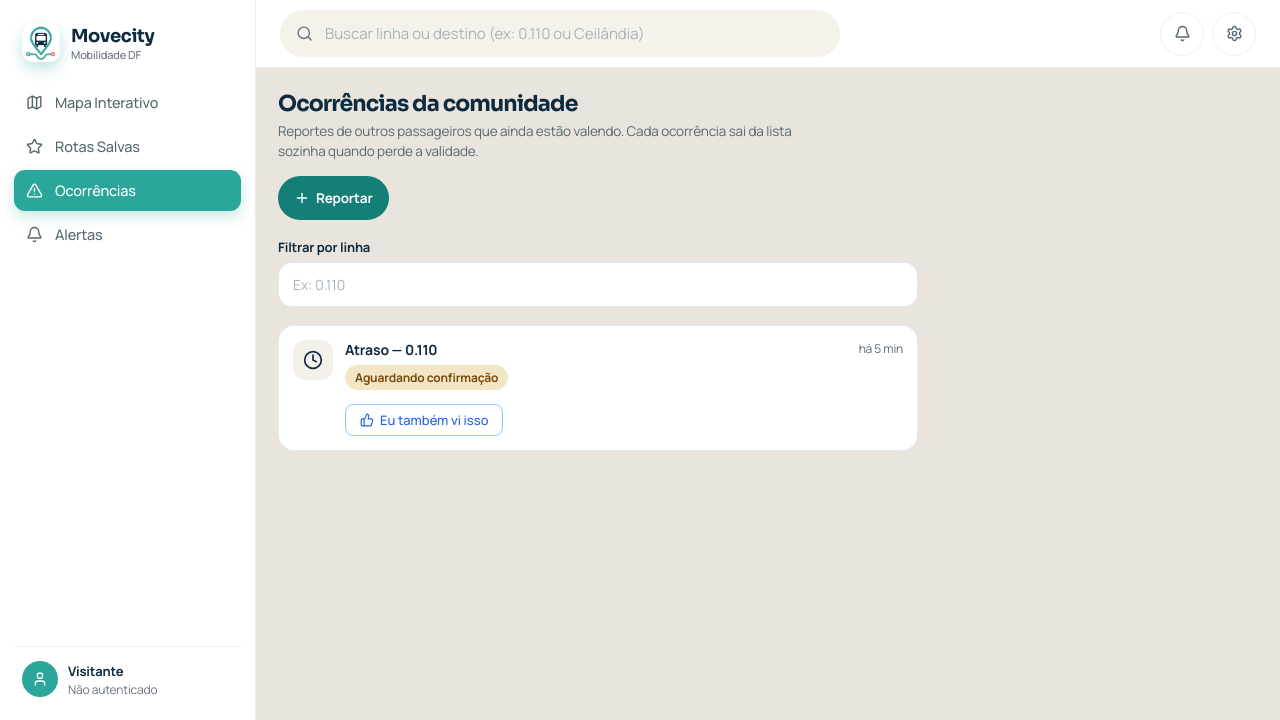
Test: OcorrenciasPage — confirmar ocorrência (US #26) › ao atingir 3 confirmações, status muda para confirmada e botão some
The width and height of the screenshot is (1280, 720).
Click the button "Eu também vi isso": point(424, 420) [345,404,504,436]
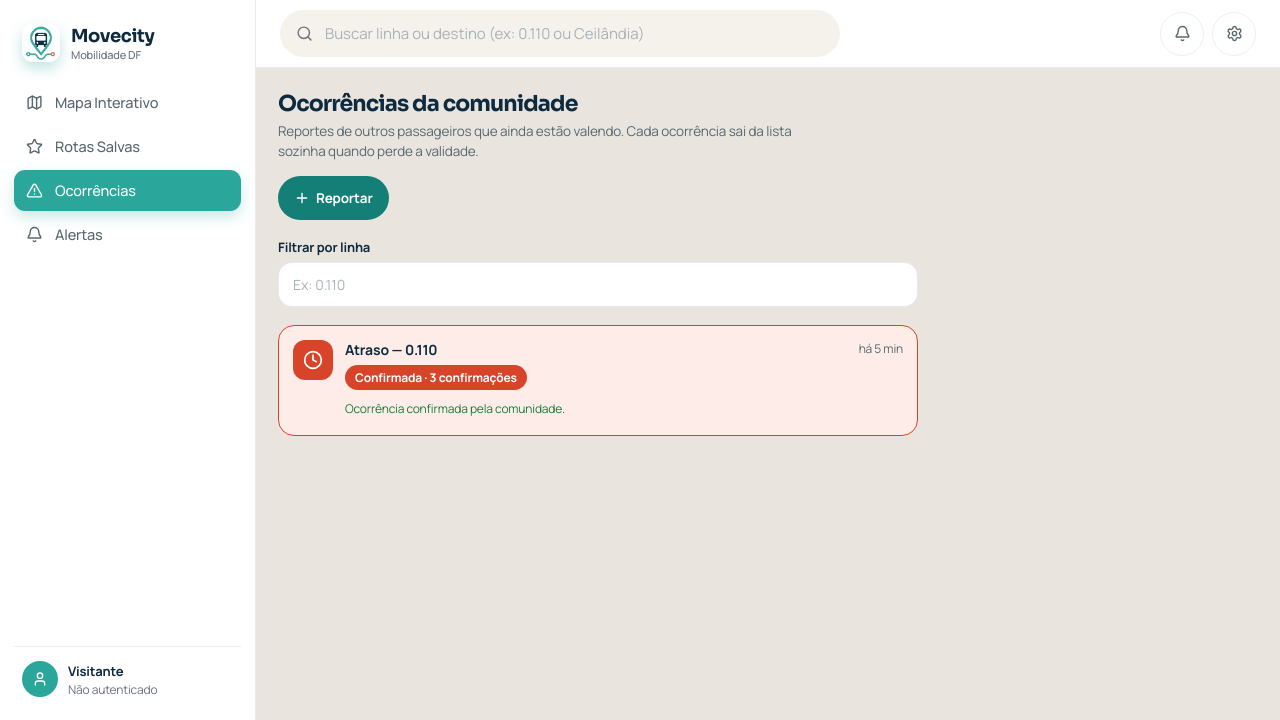
Check: the text "Ocorrência confirmada pela comunidade." is shown, box [345,400,565,417]
Check: the button "Eu também vi isso" is gone
